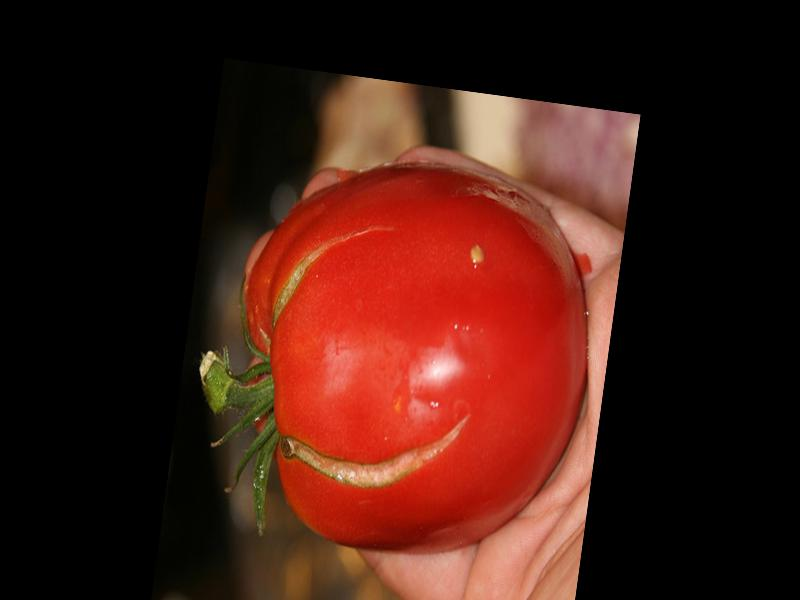Tomato: (215, 142, 611, 570)
